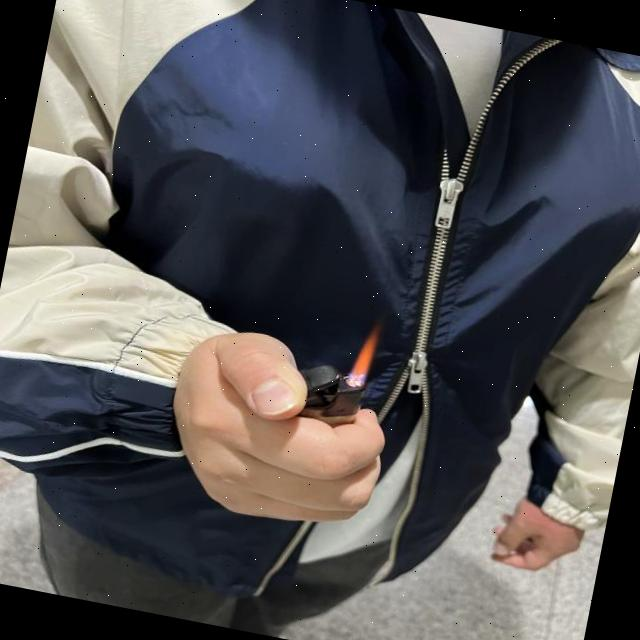fire: (346, 330, 380, 384)
